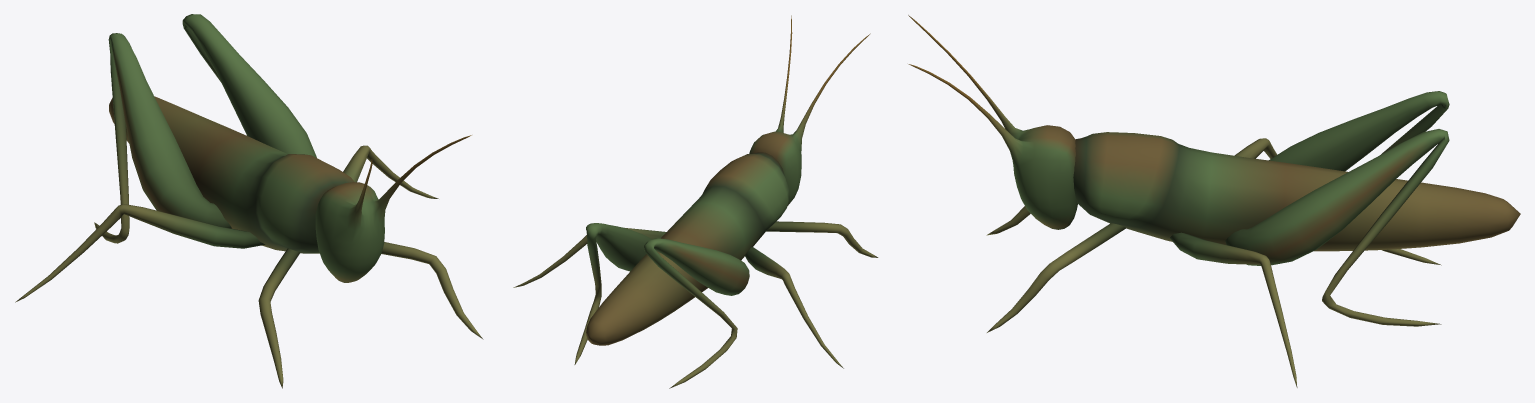
Rendered from grasshopper_draco.glb.
3 renders of one model, left to right at view 1: azimuth 30°, elevation 25°; view 2: azimuth 150°, elevation 25°; view 3: azimuth 270°, elevation 25°, orthographic. The views are drawn at different scales.
Parts seen in each view (by area): view 1: grasshopper; view 2: grasshopper; view 3: grasshopper.
Part boxes in pixels (left/top/right/bottom): grasshopper: left=15, top=14, right=483, bottom=388; grasshopper: left=513, top=15, right=878, bottom=388; grasshopper: left=908, top=15, right=1520, bottom=387.
Size of the model in its own units: 2.18 by 1.25 by 2.73.
